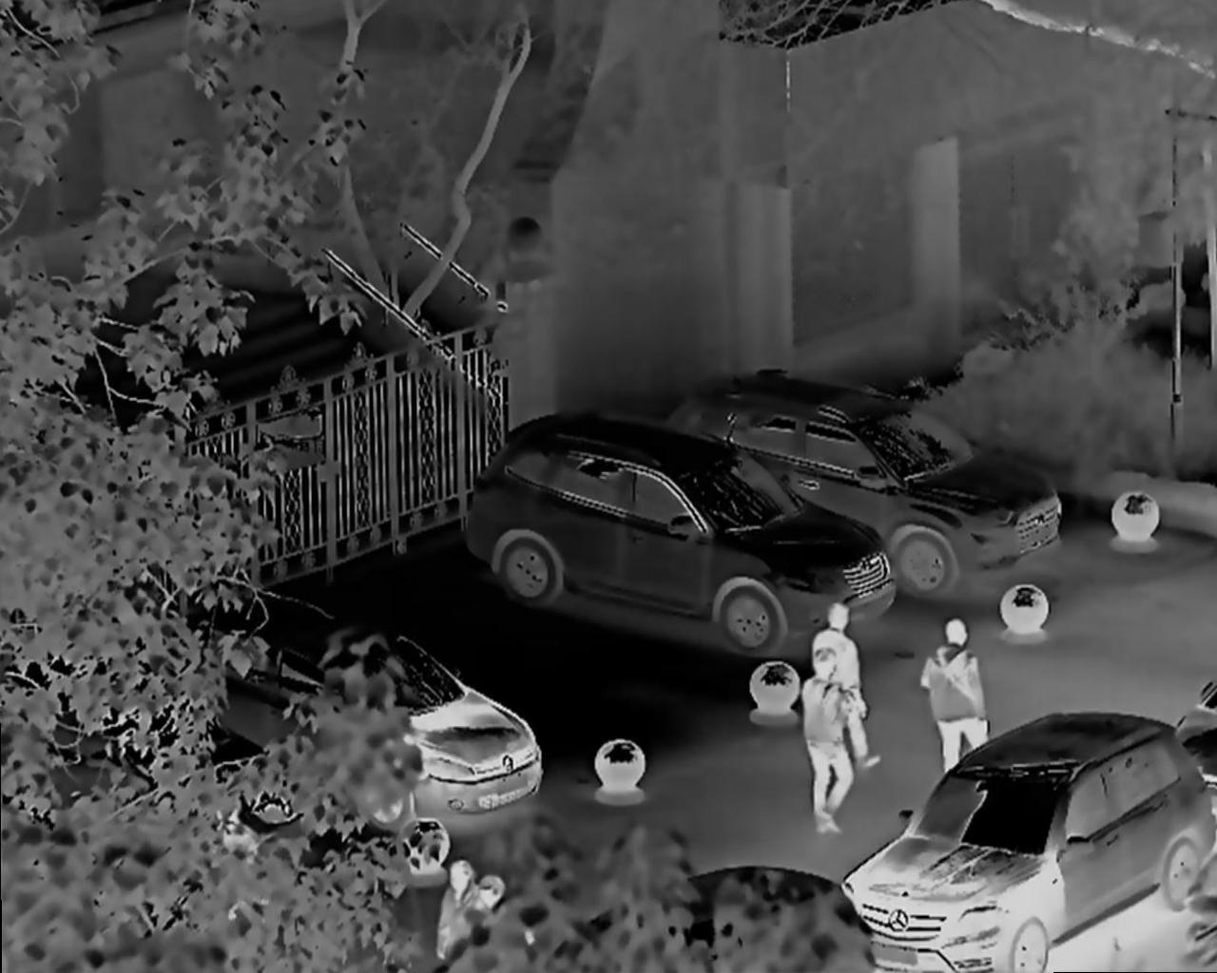person: (811, 603, 882, 773), (919, 619, 989, 782), (799, 646, 853, 836), (433, 858, 483, 973), (476, 874, 539, 956)
